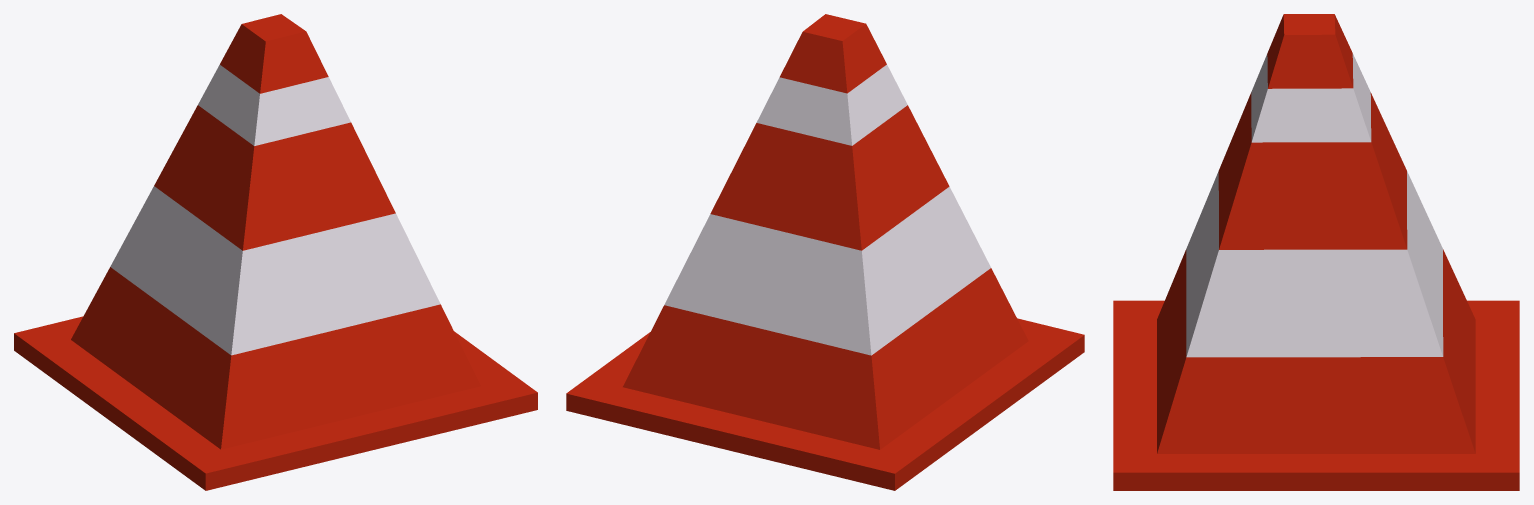
3 renders of one model, left to right at view 1: azimuth 30°, elevation 25°; view 2: azimuth 150°, elevation 25°; view 3: azimuth 270°, elevation 25°, orthographic. The views are drawn at different scales.
Visible parts, largest first — view 1: Cube2, Cube; view 2: Cube2, Cube; view 3: Cube2, Cube.
Part boxes in pixels (x1,y1,x2,y2): Cube2: (71,14,480,449); Cube: (14,316,537,490); Cube2: (623,14,1028,449); Cube: (566,318,1084,490); Cube2: (1157,14,1475,453); Cube: (1113,300,1519,490).
Bounding box in the file's own units: 200 × 205 × 200.
